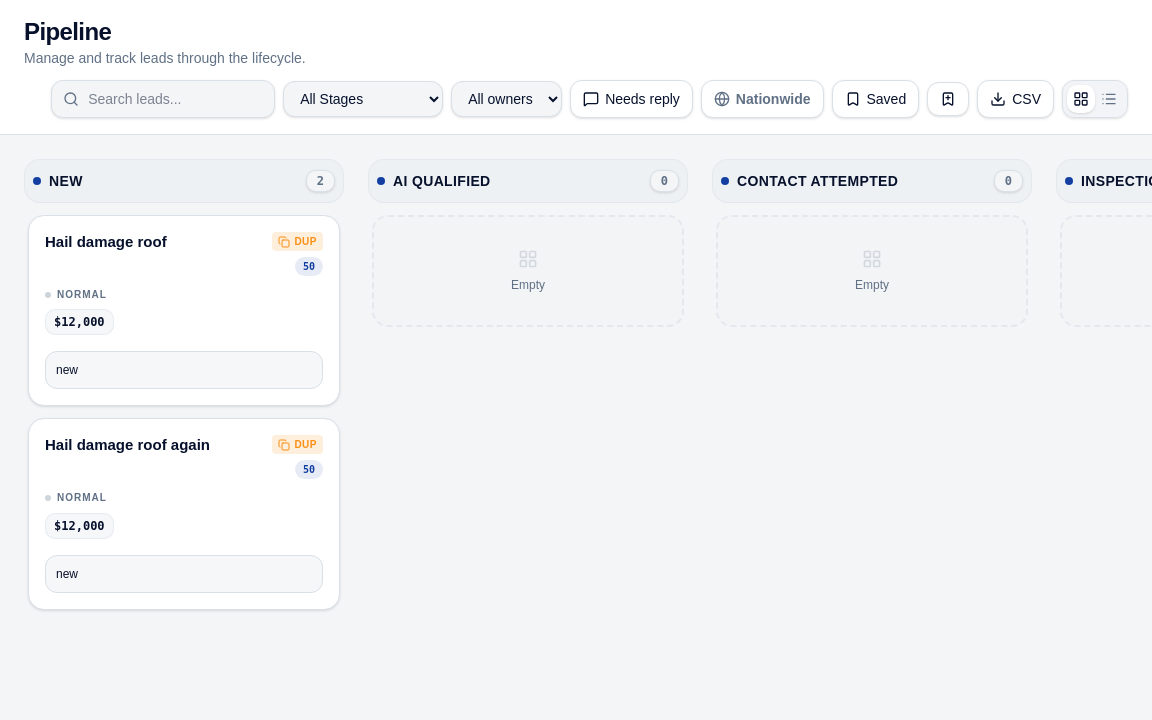
Test: pipeline duplicate badge role gating › sales_rep: badge is a button and opens the merge dialog
The image size is (1152, 720).
Expected: the link "Hail damage roof" is shown, [45, 232, 167, 253]
Click the 1st button "Dup": [298, 242] box [272, 232, 323, 251]
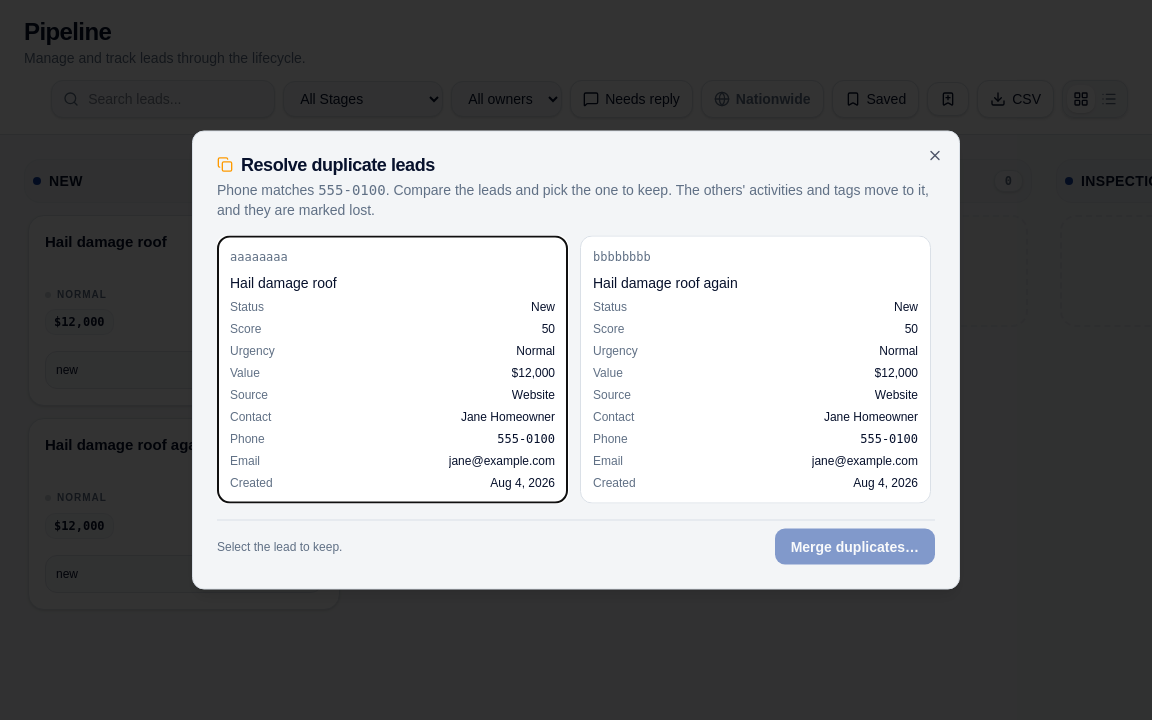
Result: the heading "Resolve duplicate leads" is shown at [217, 154, 435, 174]
